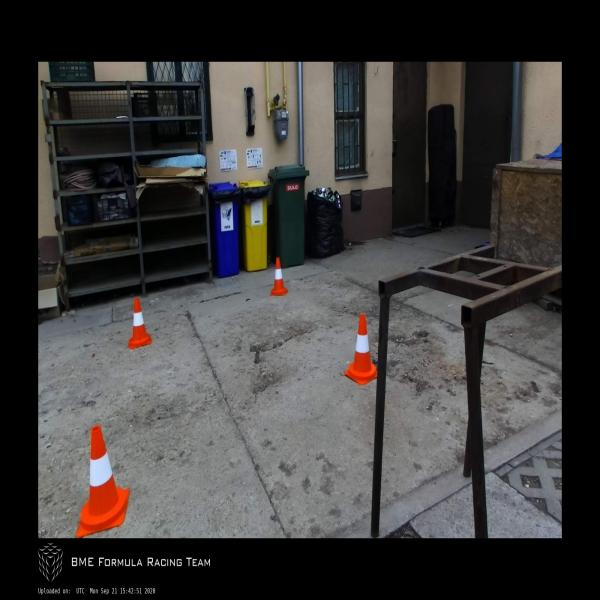orange_cone: (76, 426, 130, 538), (344, 314, 377, 384), (128, 298, 152, 349), (269, 257, 288, 296)
